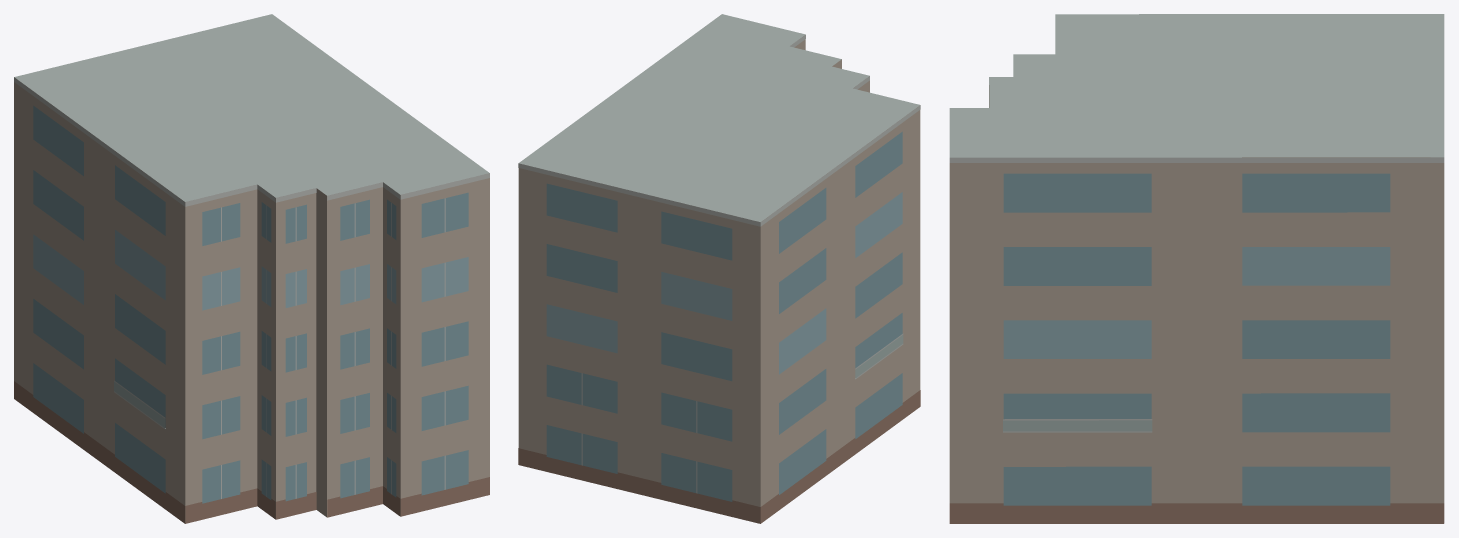
File: survey-upis-32768391.glb
3 views of the same model, side by side, from view 1: azimuth 30°, elevation 25°; view 2: azimuth 150°, elevation 25°; view 3: azimuth 270°, elevation 25° (orthographic). The views are drawn at different scales.
Parts seen in each view (by area): view 1: survey-upis-32768391.tmp; view 2: survey-upis-32768391.tmp; view 3: survey-upis-32768391.tmp.
Boxes of the visible parts, x1=… form: survey-upis-32768391.tmp: x1=14, y1=14, x2=489, y2=523; survey-upis-32768391.tmp: x1=518, y1=14, x2=920, y2=523; survey-upis-32768391.tmp: x1=949, y1=14, x2=1444, y2=523.
Size of the model in its own units: 13.6 by 16.1 by 19.73.
